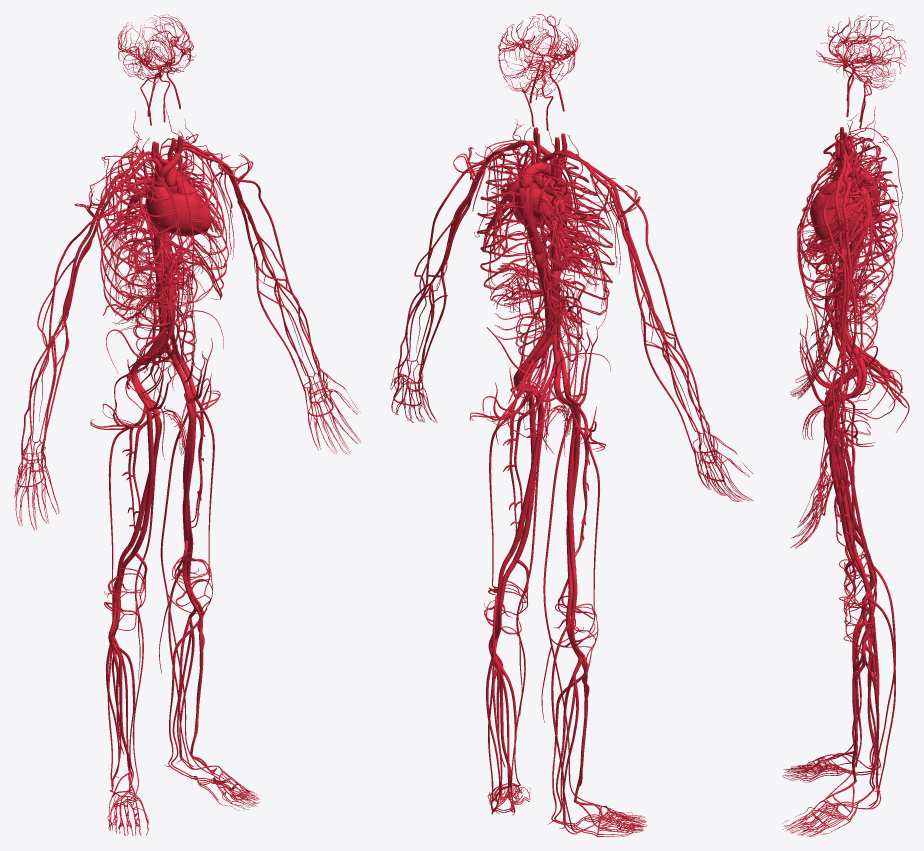
Rendered from cardiovascular.glb.
3 views of the same model, side by side, from view 1: azimuth 30°, elevation 25°; view 2: azimuth 150°, elevation 25°; view 3: azimuth 270°, elevation 25° (orthographic). The views are drawn at different scales.
Parts seen in each view (by area): view 1: SOMA_pericardium, FJ1994, FJ1961, FJ1985, FJ2103, FJ2143, FJ2145, FJ2272, FJ2074; view 2: FJ1994, FJ1961, FJ2145, FJ1985, FJ1975, FJ2103, FJ2102, FJ2144, FJ3427, SOMA_pericardium, FJ2074, FJ2272 (+1 smaller); view 3: FJ1985, FJ1975, SOMA_pericardium, FJ2220, FJ2103, FJ2102, FJ2074, FJ2145, FJ1994, FJ2121, FJ2218, FJ2176 (+18 smaller).
Boxes of the visible parts, x1=… form: SOMA_pericardium: x1=145, y1=183, x2=211, y2=236; FJ1994: x1=97, y1=146, x2=182, y2=319; FJ1961: x1=97, y1=154, x2=180, y2=320; FJ1985: x1=161, y1=138, x2=228, y2=295; FJ2103: x1=159, y1=410, x2=216, y2=776; FJ2143: x1=131, y1=395, x2=154, y2=555; FJ2145: x1=132, y1=417, x2=161, y2=796; FJ2272: x1=21, y1=185, x2=122, y2=459; FJ2074: x1=182, y1=385, x2=196, y2=541; FJ1994: x1=539, y1=158, x2=614, y2=324; FJ1961: x1=525, y1=175, x2=614, y2=324; FJ2145: x1=541, y1=413, x2=602, y2=806; FJ1985: x1=477, y1=148, x2=547, y2=301; FJ1975: x1=476, y1=166, x2=540, y2=301; FJ2103: x1=514, y1=408, x2=544, y2=785; FJ2102: x1=509, y1=398, x2=542, y2=556; FJ2144: x1=566, y1=408, x2=575, y2=570; FJ3427: x1=517, y1=186, x2=551, y2=331; SOMA_pericardium: x1=512, y1=179, x2=572, y2=230; FJ2074: x1=512, y1=392, x2=536, y2=563; FJ2272: x1=605, y1=175, x2=713, y2=458; FJ1985: x1=799, y1=155, x2=897, y2=324; FJ1975: x1=799, y1=166, x2=897, y2=325; SOMA_pericardium: x1=810, y1=181, x2=865, y2=242; FJ2220: x1=823, y1=190, x2=849, y2=489; FJ2103: x1=824, y1=417, x2=877, y2=800; FJ2102: x1=823, y1=406, x2=858, y2=556; FJ2074: x1=829, y1=400, x2=856, y2=564; FJ2145: x1=824, y1=397, x2=877, y2=760; FJ1994: x1=800, y1=137, x2=897, y2=277; FJ2121: x1=859, y1=598, x2=895, y2=809; FJ2218: x1=830, y1=248, x2=856, y2=475; FJ2176: x1=858, y1=566, x2=895, y2=768.
Size of the model in its own units: 0.7942 by 1.71 by 0.2506.
